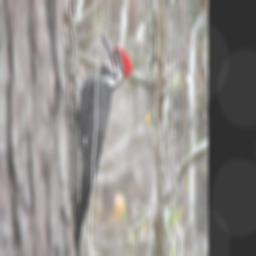Woodpecker: (65, 35, 136, 256)
